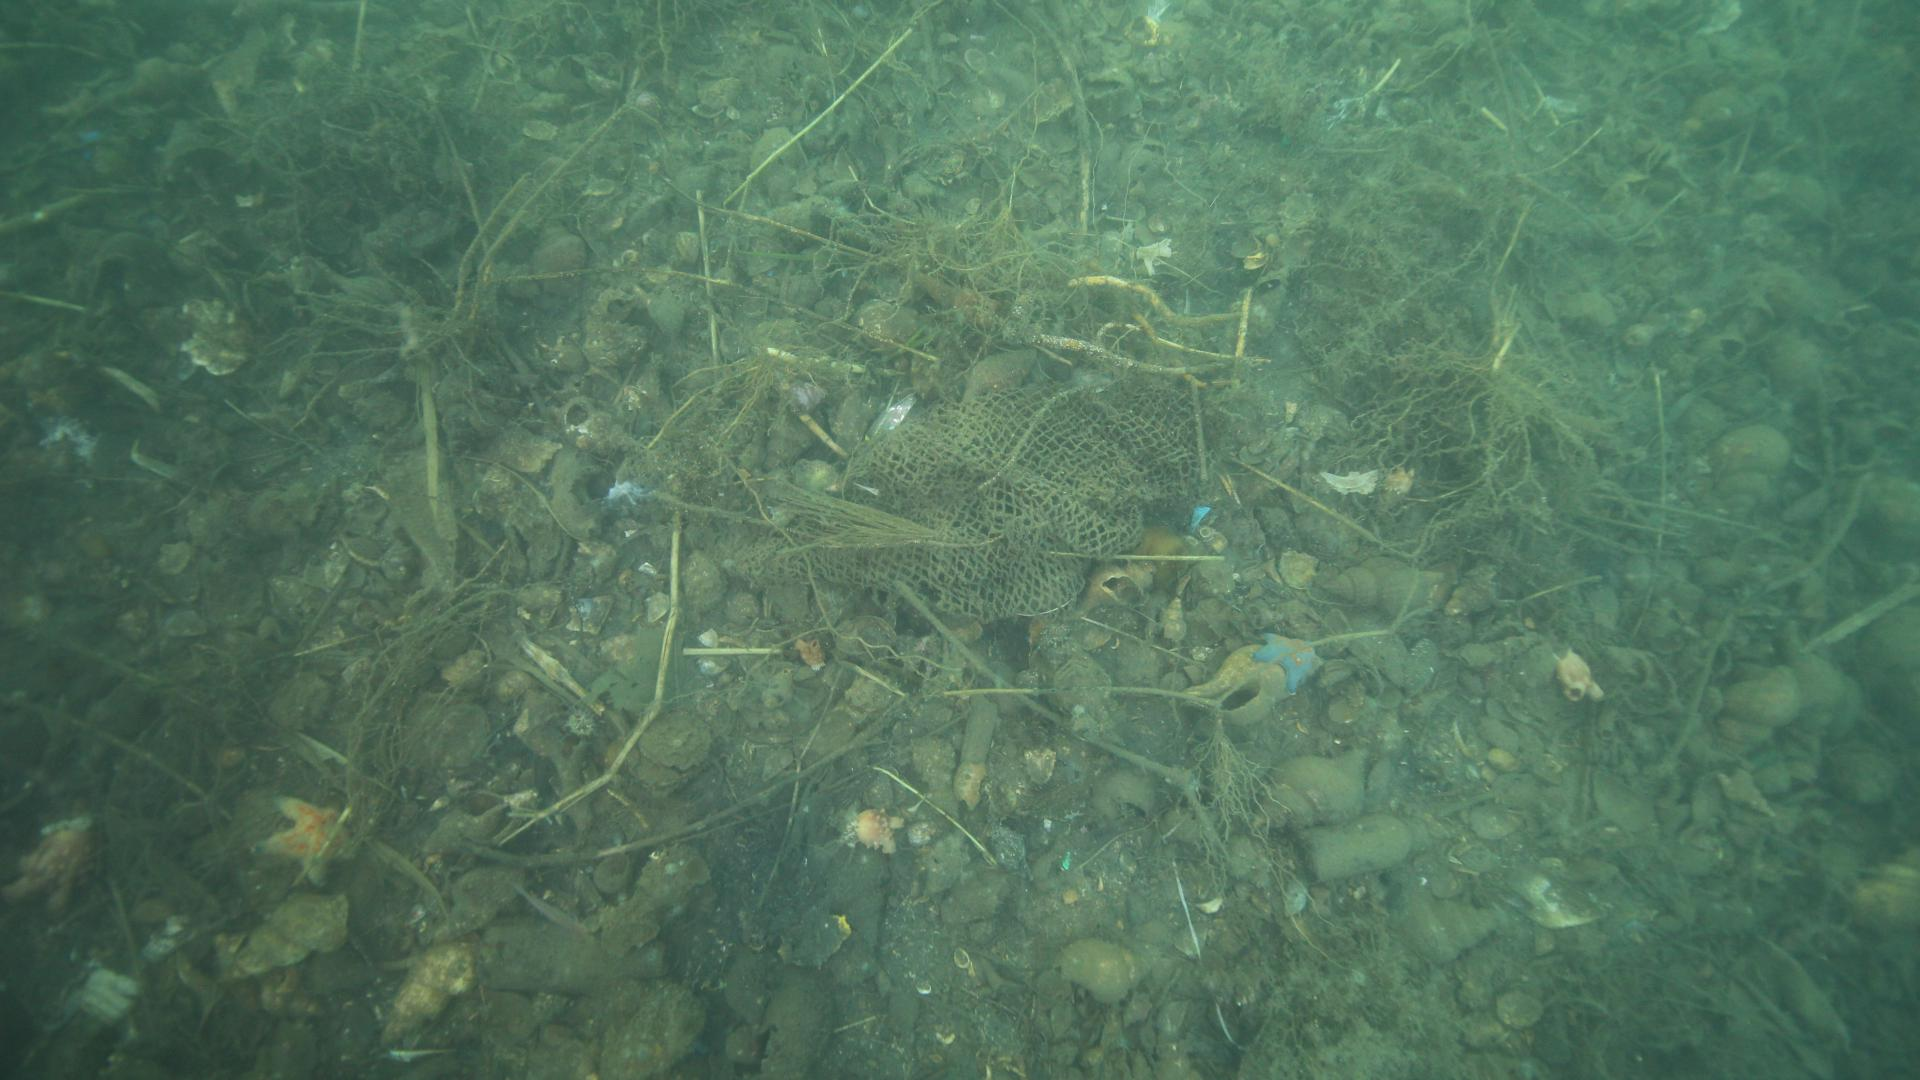fish net: (781, 382, 1203, 617)
